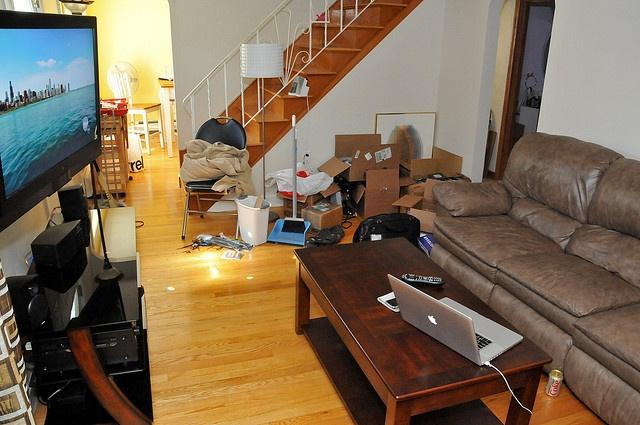AIO PC-Monitor-TV: (0, 7, 102, 234)
Meja: (290, 235, 552, 424)
